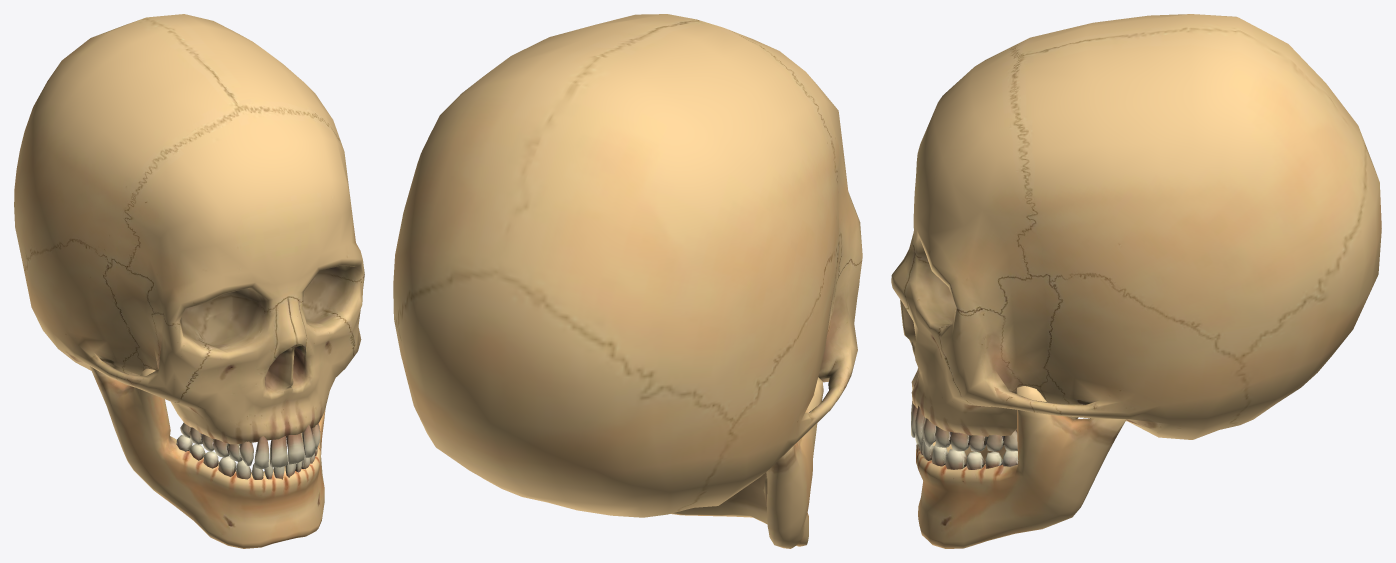
The model's file is leonidas-skull.glb.
3 renders of one model, left to right at view 1: azimuth 30°, elevation 25°; view 2: azimuth 150°, elevation 25°; view 3: azimuth 270°, elevation 25°, orthographic. The views are drawn at different scales.
Parts seen in each view (by area): view 1: LeonidasSkull; view 2: LeonidasSkull; view 3: LeonidasSkull.
Part boxes in pixels (x1=…): LeonidasSkull: x1=14, y1=14, x2=364, y2=548; LeonidasSkull: x1=393, y1=14, x2=862, y2=548; LeonidasSkull: x1=891, y1=14, x2=1381, y2=548.
Bounding box in the file's own units: 0.1482 × 0.22 × 0.1965.
Materials: 1 (1 with a texture image).
